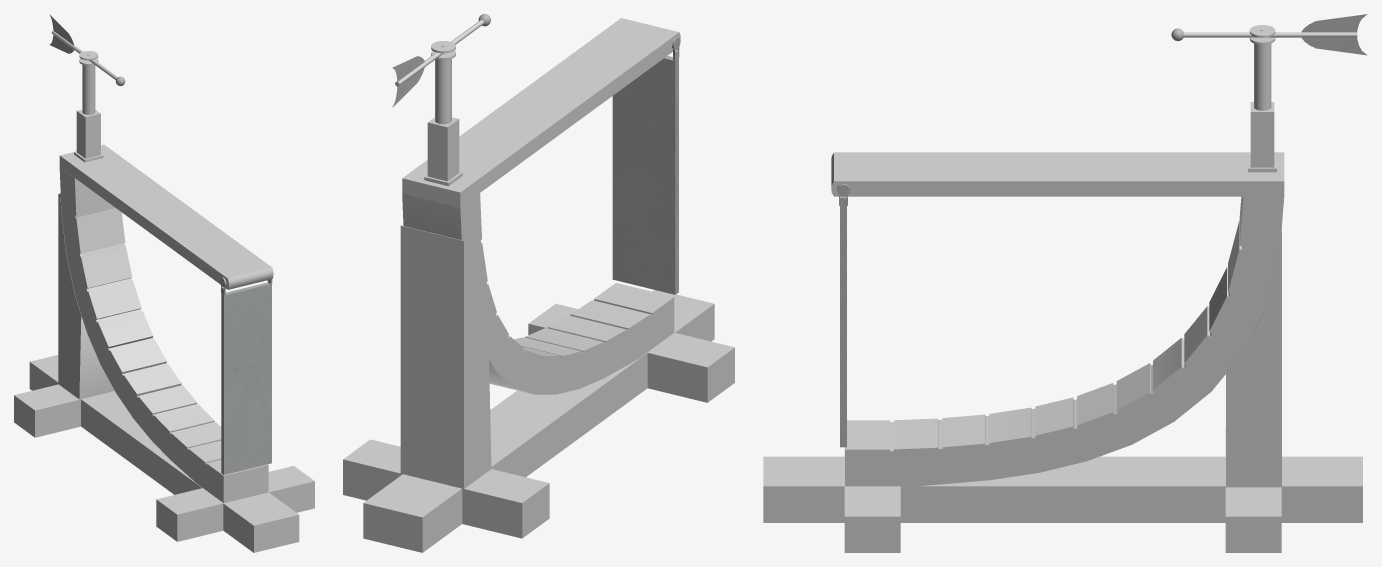
File: Anemometer.fbx
3 renders of one model, left to right at view 1: azimuth 30°, elevation 25°; view 2: azimuth 150°, elevation 25°; view 3: azimuth 270°, elevation 25°, orthographic. The views are drawn at different scales.
Visible parts, largest first — view 1: Anemometer, AnemometerMetal; view 2: Anemometer, AnemometerMetal; view 3: Anemometer, AnemometerMetal.
Part boxes in pixels (bbox=[...]): Anemometer: bbox=[14, 30, 314, 552]; AnemometerMetal: bbox=[49, 14, 272, 474]; Anemometer: bbox=[343, 18, 734, 552]; AnemometerMetal: bbox=[392, 14, 680, 294]; Anemometer: bbox=[763, 25, 1362, 552]; AnemometerMetal: bbox=[837, 14, 1367, 447].
Size of the model in its own units: 80.55 by 206 by 229.
